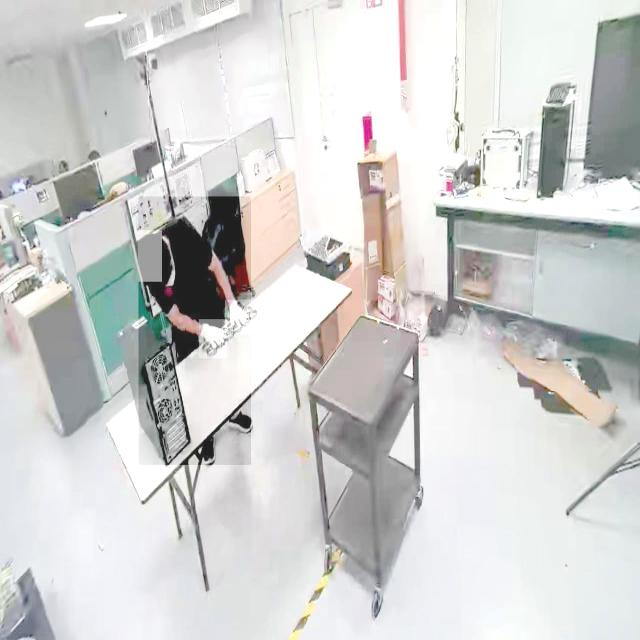hand_glove: (199, 319, 227, 359), (225, 300, 251, 334)
head_nohelmet: (138, 230, 162, 283)
person: (138, 196, 251, 466)
shoes: (226, 410, 255, 438), (202, 426, 218, 469)
